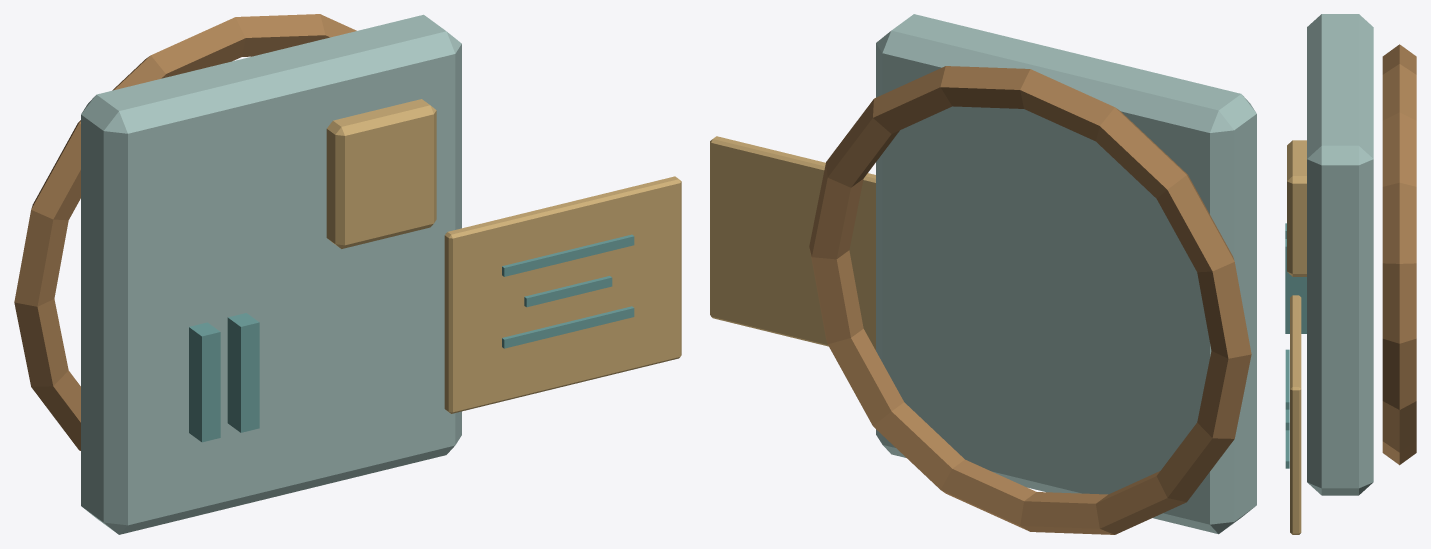
File: longneck_nurse.glb
3 renders of one model, left to right at view 1: azimuth 30°, elevation 25°; view 2: azimuth 150°, elevation 25°; view 3: azimuth 270°, elevation 25°, orthographic. The views are drawn at different scales.
Visible parts, largest first — view 1: longneck_nurse; view 2: longneck_nurse; view 3: longneck_nurse.
Part boxes in pixels (box(x1,y1,x2,y2)): longneck_nurse: box(14, 14, 681, 534); longneck_nurse: box(710, 14, 1256, 534); longneck_nurse: box(1285, 14, 1416, 534).
Size of the model in its own units: 0.3868 by 0.284 by 0.0884.
